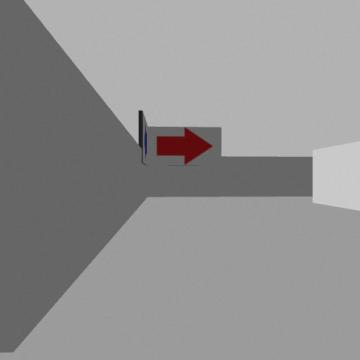red_right: (157, 128, 212, 164)
